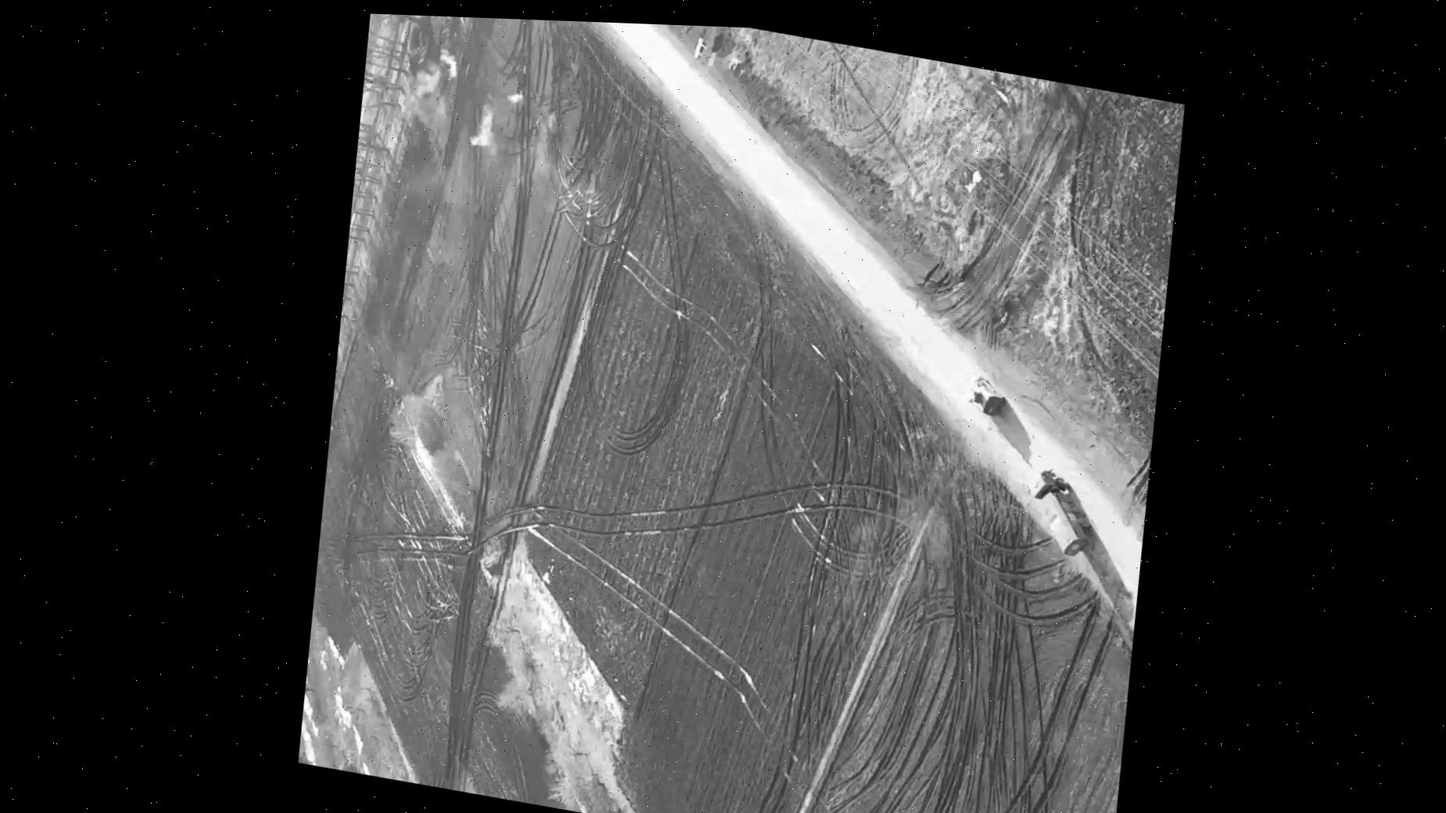armored_car: (962, 374, 1009, 419)
truck: (1018, 464, 1100, 560)
